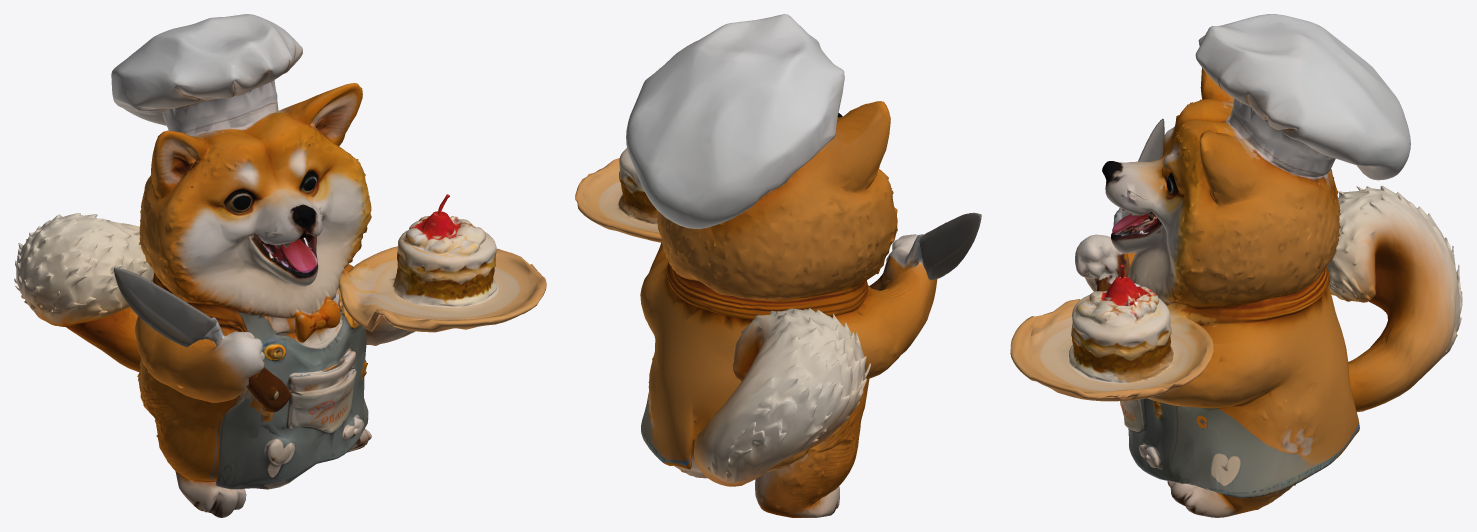
Rendered from corgi.fbx.
3 views of the same model, side by side, from view 1: azimuth 30°, elevation 25°; view 2: azimuth 150°, elevation 25°; view 3: azimuth 270°, elevation 25° (orthographic). The views are drawn at different scales.
Parts seen in each view (by area): view 1: texture_v128.001; view 2: texture_v128.001; view 3: texture_v128.001.
Part boxes in pixels (<box>): texture_v128.001: <box>14,14,546,517</box>; texture_v128.001: <box>575,14,981,517</box>; texture_v128.001: <box>1010,14,1462,517</box>.
Size of the model in its own units: 89.52 by 101 by 86.1.
